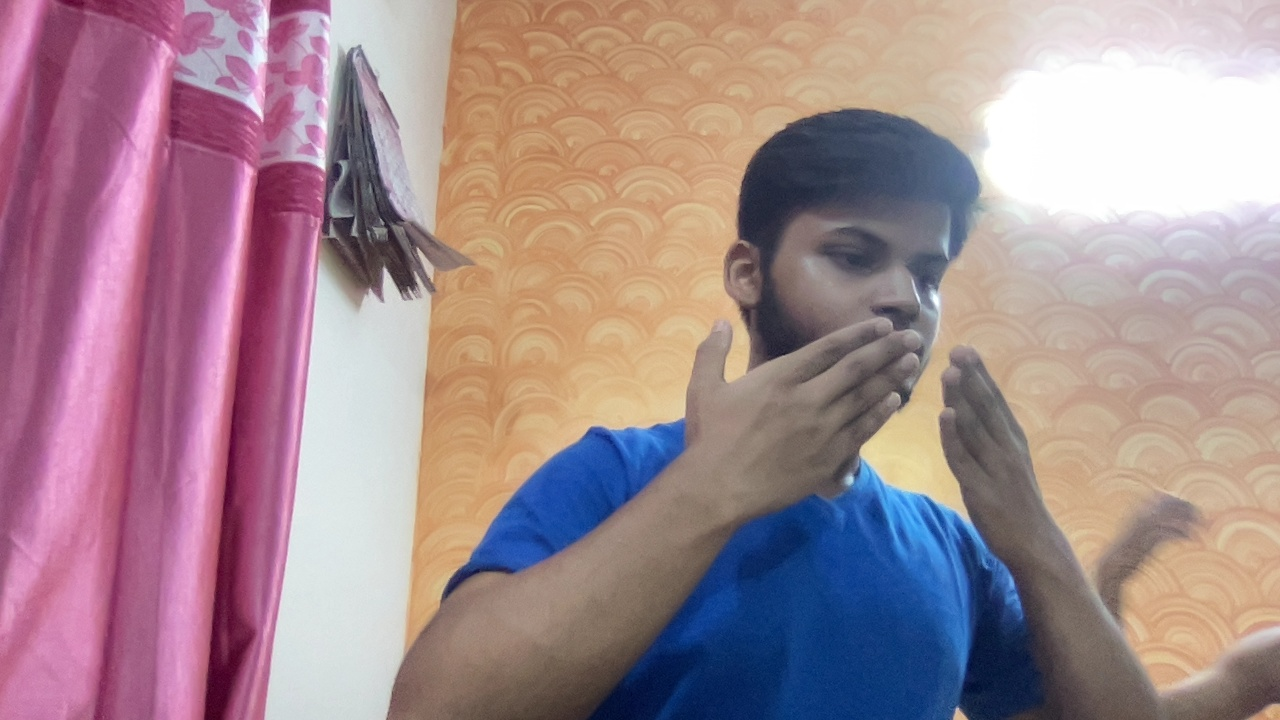thankyou: (663, 299, 1136, 567)
